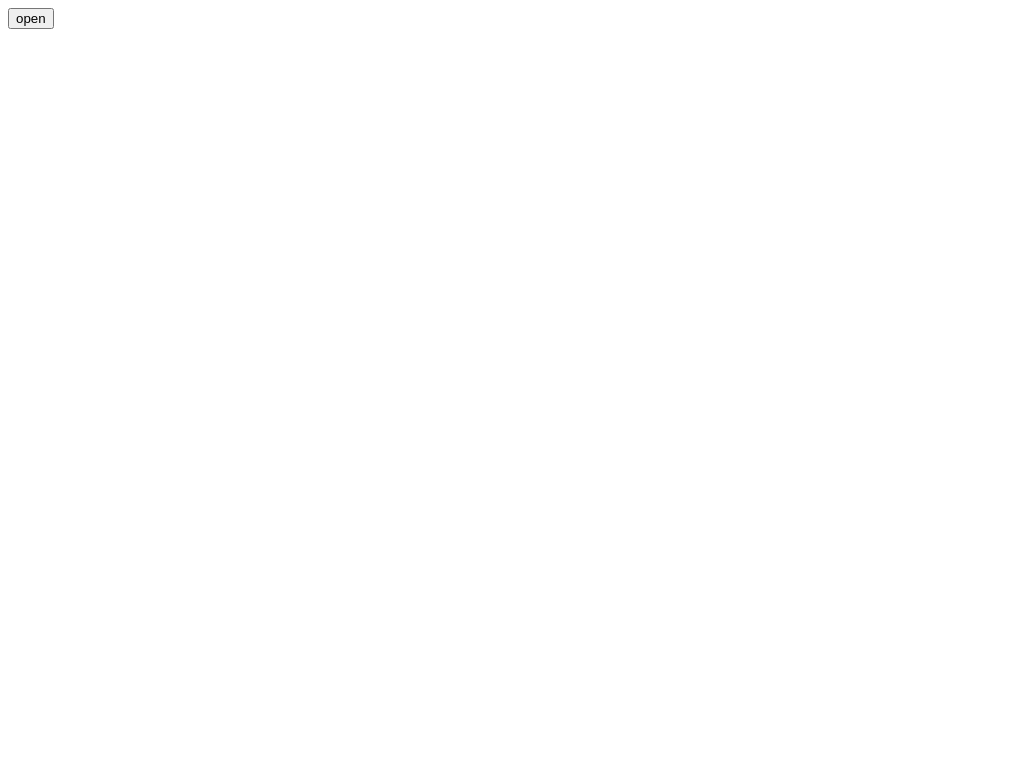
Test: @radix-ui/react-dialog › opens through the trigger into a portal and closes on Escape
The width and height of the screenshot is (1024, 768).
Later steps or results of the test are not shown.
Click the button "open": (31, 18) x1=8 y1=8 x2=54 y2=29
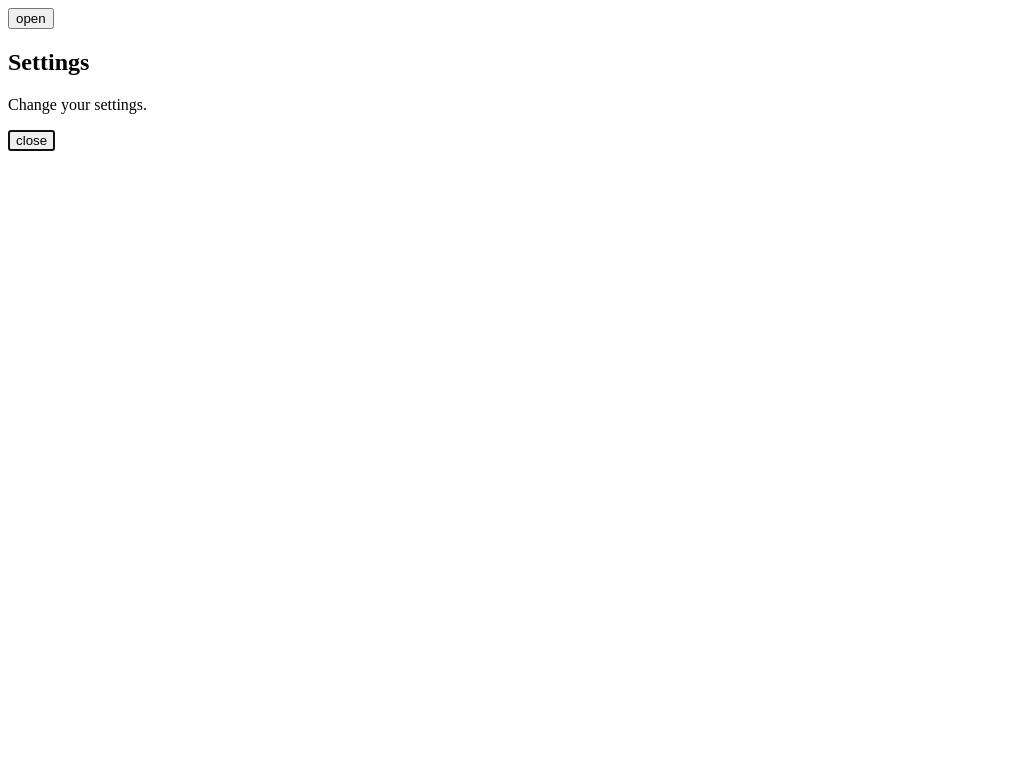
Now the dialog is shown
Now the heading "Settings" is shown, box x1=8 y1=49 x2=89 y2=75
Press Escape in the dialog, box x1=8 y1=49 x2=147 y2=151
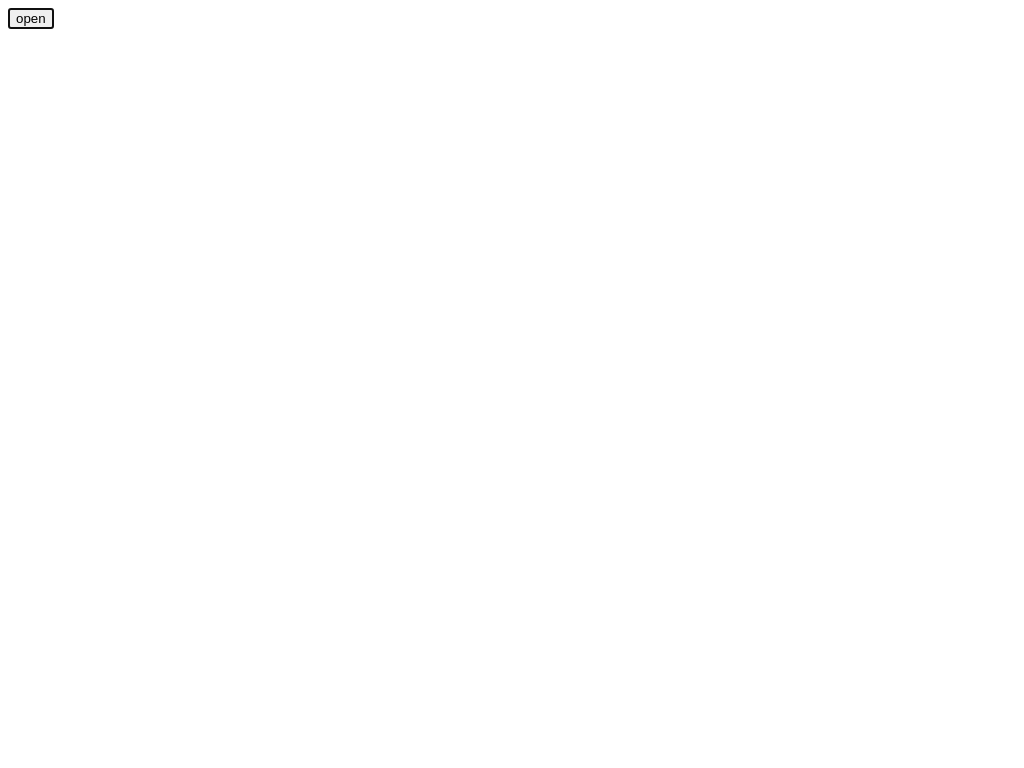
Now the button "open" is collapsed, box x1=8 y1=8 x2=54 y2=29
